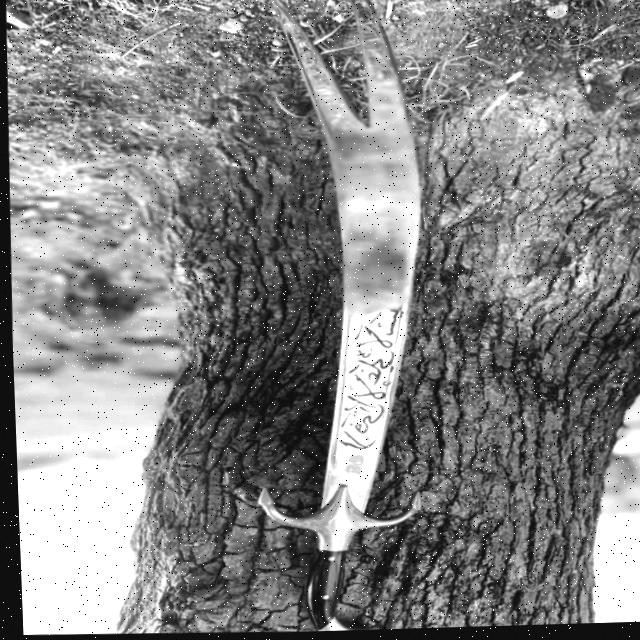knife: (203, 0, 481, 635)
